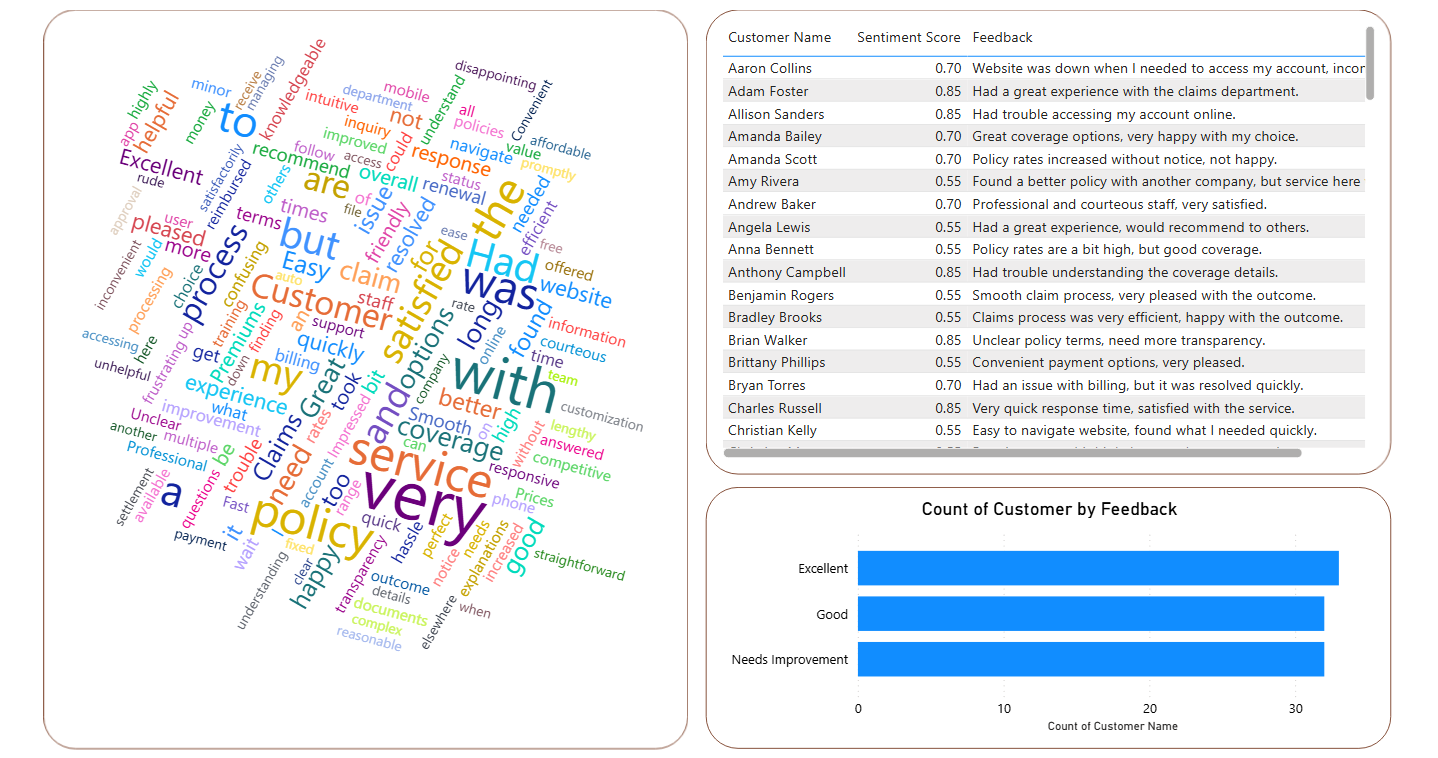

What the dashboard file says about the page in this screenshot:
{"tool":"powerbi","page":{"name":"Feedback","canvas":[1280,720],"ordinal":2},"visuals":[{"type":"WordCloud1447959067750","fields":{"Category":["Sheet1.Feedback"],"Values":["CountNonNull(Sheet1.Feedback)"]},"box":[14.7,20.8,599.2,687.2],"z":0},{"type":"barChart","title":"Count of Customer by Feedback","fields":{"Category":["Sheet1.Sentiment Category"],"Y":["Count(Sheet1.Customer Name)"]},"box":[631,464.7,637.1,243.3],"z":1000},{"type":"tableEx","fields":{"Values":["Sheet1.Customer Name","Sheet1.Sentiment Score","Sheet1.Feedback"]},"box":[631,20.8,637.1,431.7],"z":1001}]}

Visuals, with their boxes on the page's 1280x720 design canvas (x1, y1, x2, y2). These are canvas units, not pixel positions in the 1438x758 screenshot, which may show the page scaled, cropped or inside an application window:
WordCloud1447959067750 - Sheet1.Feedback x CountNonNull(Sheet1.Feedback): x1=15 y1=21 x2=614 y2=708
"Count of Customer by Feedback" barChart: x1=631 y1=465 x2=1268 y2=708
tableEx - Sheet1.Customer Name x Sheet1.Sentiment Score: x1=631 y1=21 x2=1268 y2=452
